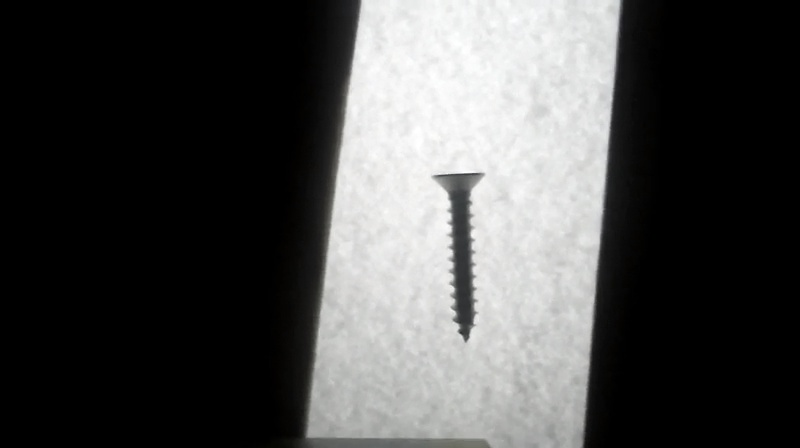S001: (431, 168, 485, 345)
